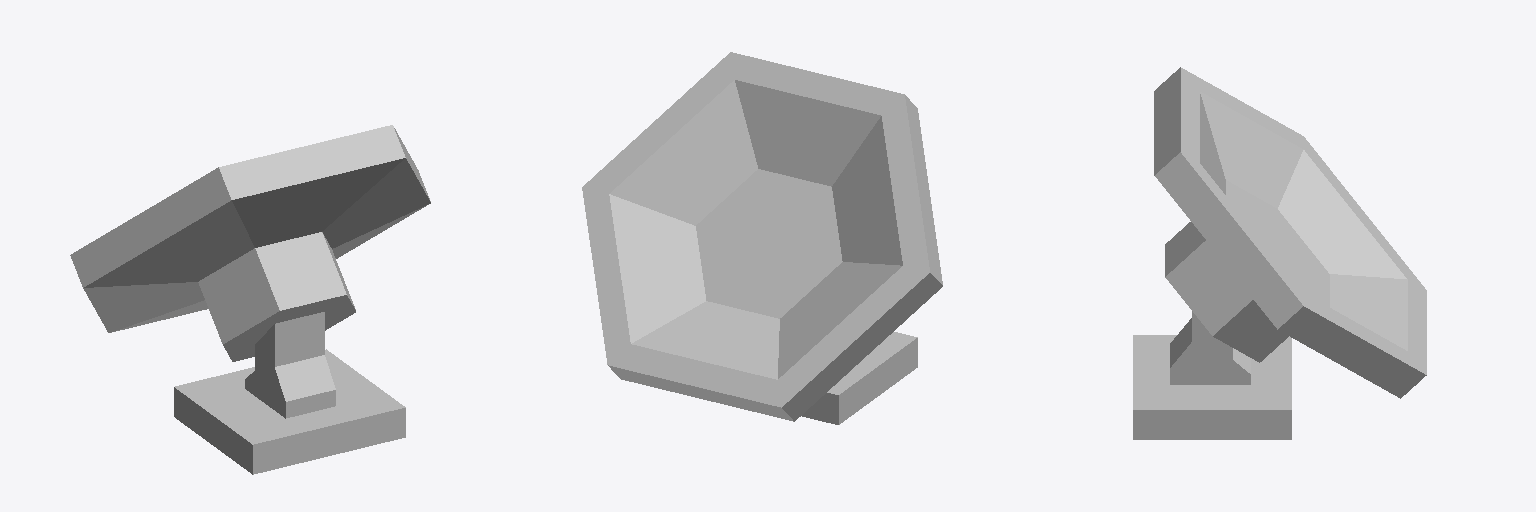
File: satelliteDish.obj
The picture shows the model from 3 angles: view 1: azimuth 30°, elevation 25°; view 2: azimuth 150°, elevation 25°; view 3: azimuth 270°, elevation 25°; orthographic projection.
Visible parts, largest first — view 1: satelliteDish; view 2: satelliteDish; view 3: satelliteDish.
Part boxes in pixels (x1,y1,x2,y2): satelliteDish: (70,125,430,474); satelliteDish: (582,52,942,424); satelliteDish: (1133,67,1426,439).
Size of the model in its own units: 8.58 by 6.89 by 6.26.